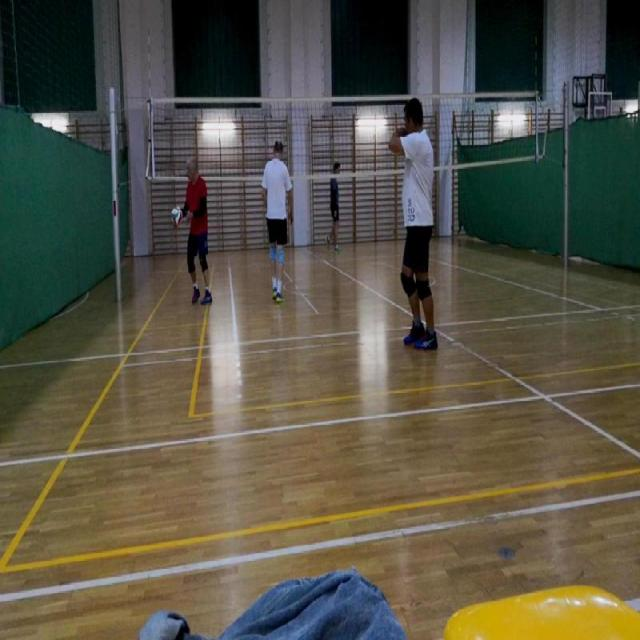volleyball: (170, 205, 184, 227)
